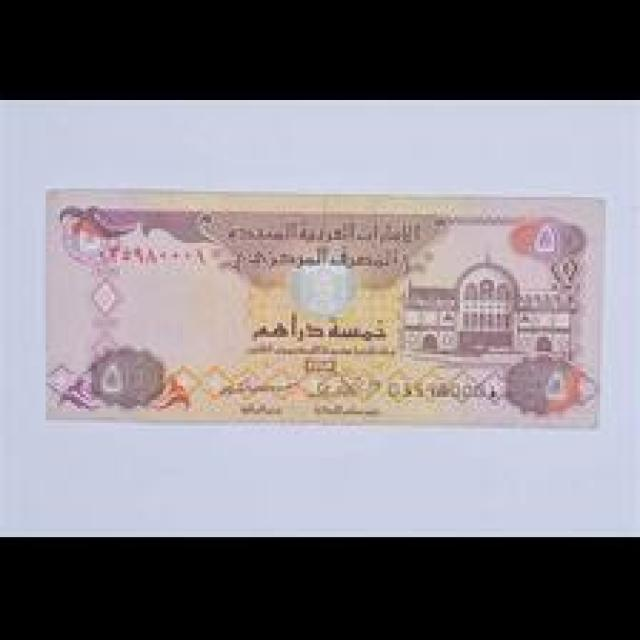banknote: (40, 182, 601, 428)
